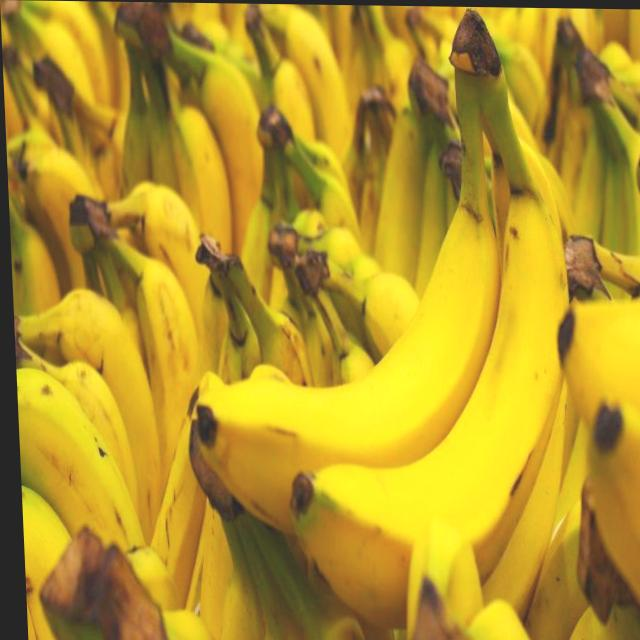banana: (183, 12, 583, 616), (78, 177, 209, 457), (117, 9, 269, 247), (16, 283, 152, 537), (558, 287, 640, 613), (369, 57, 464, 285), (1, 1, 116, 164), (305, 243, 421, 384), (200, 240, 310, 385), (249, 8, 354, 157)
